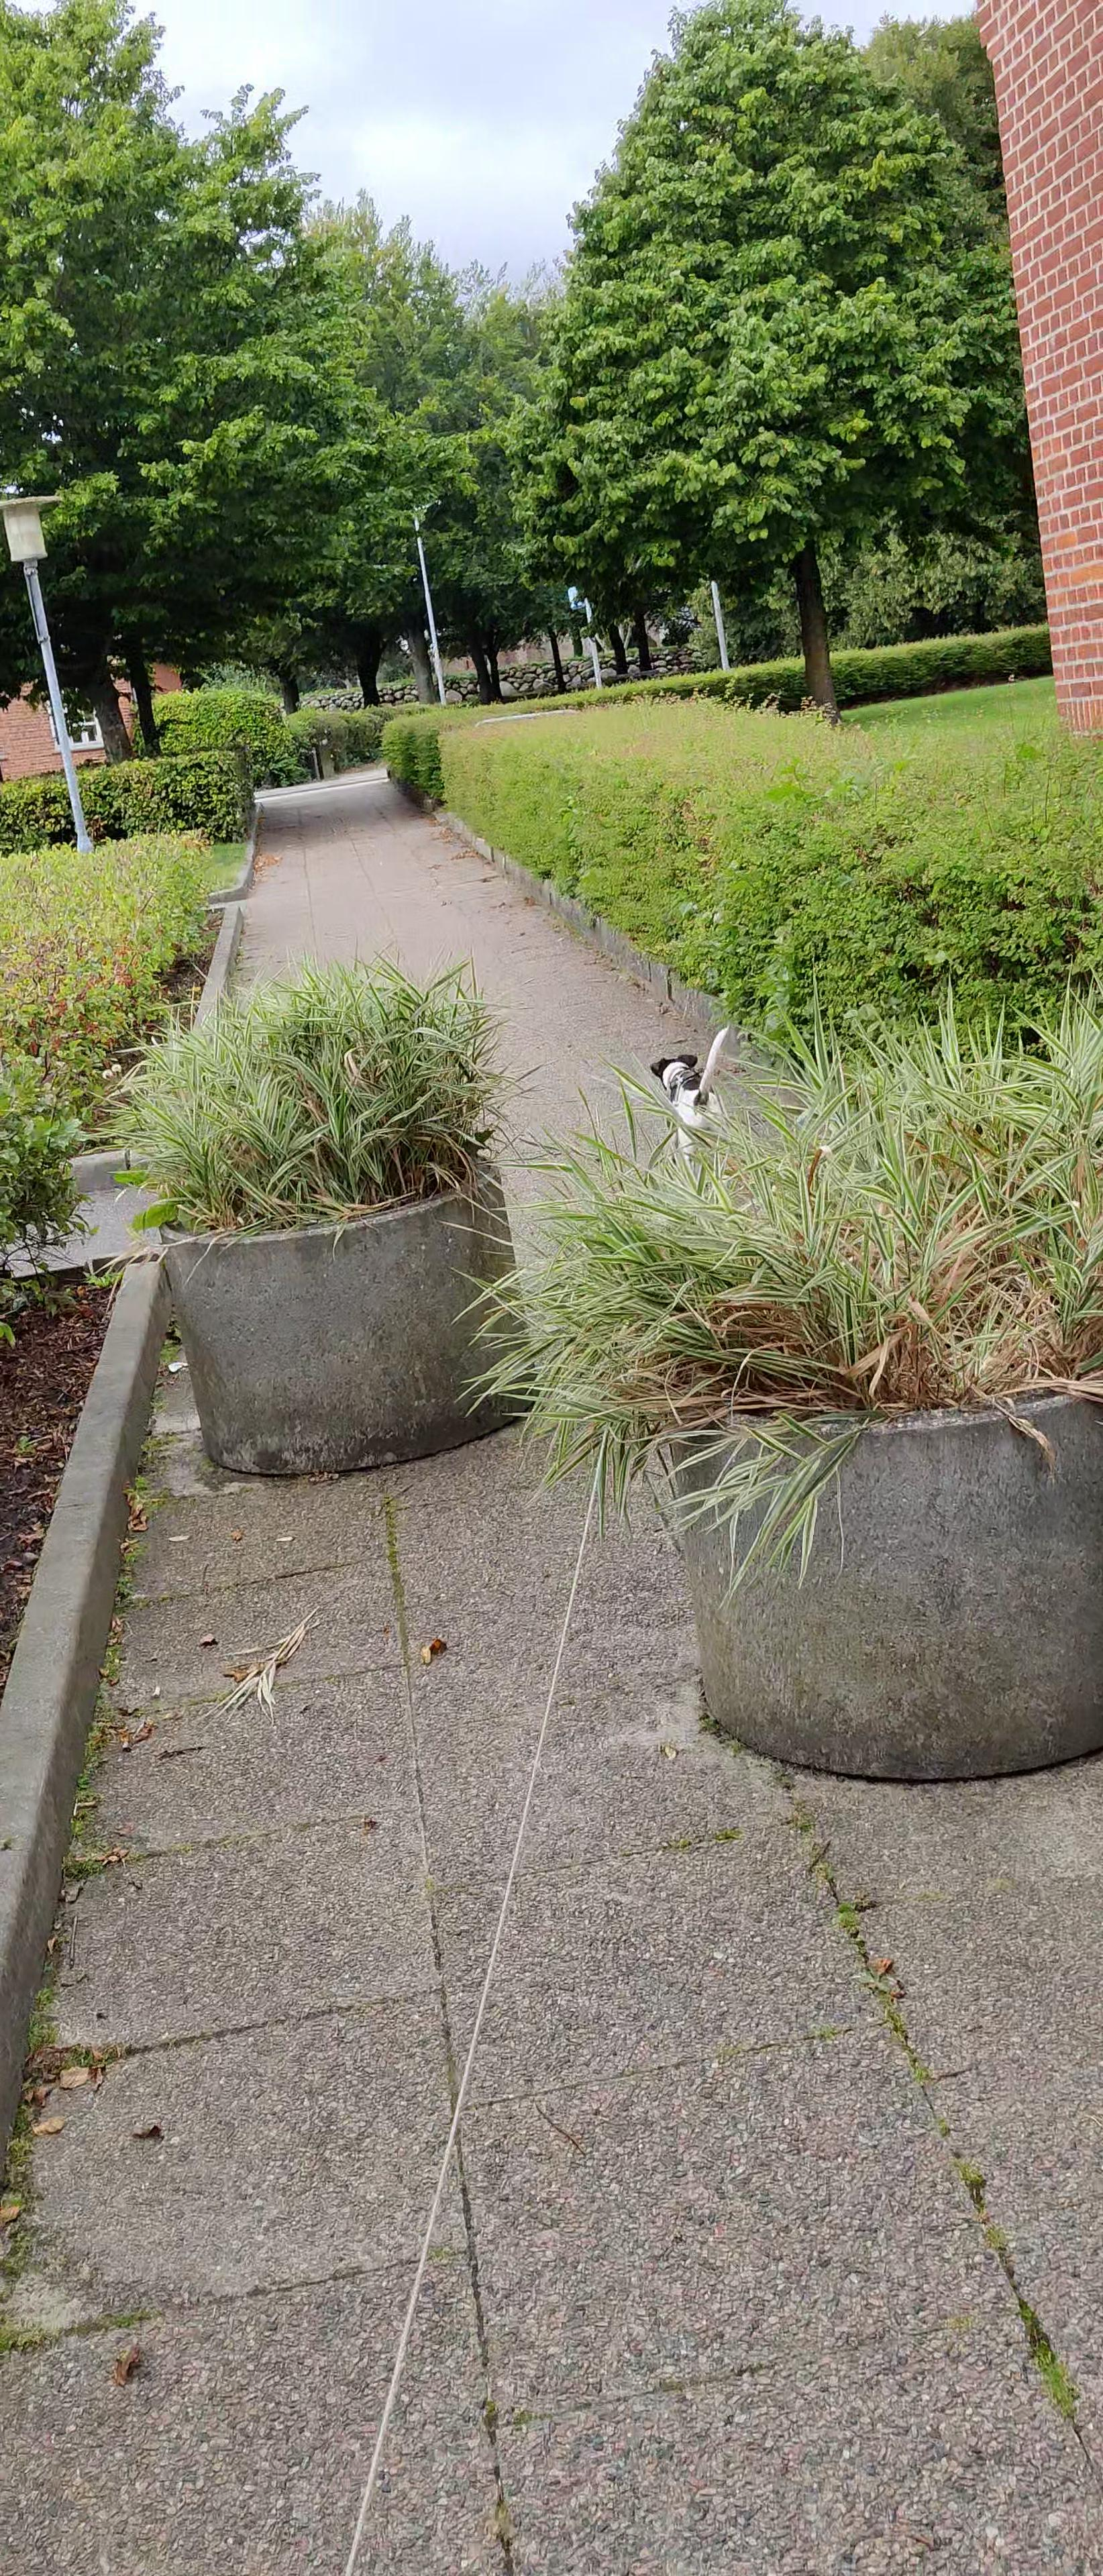Dog: (644, 1023, 735, 1175)
